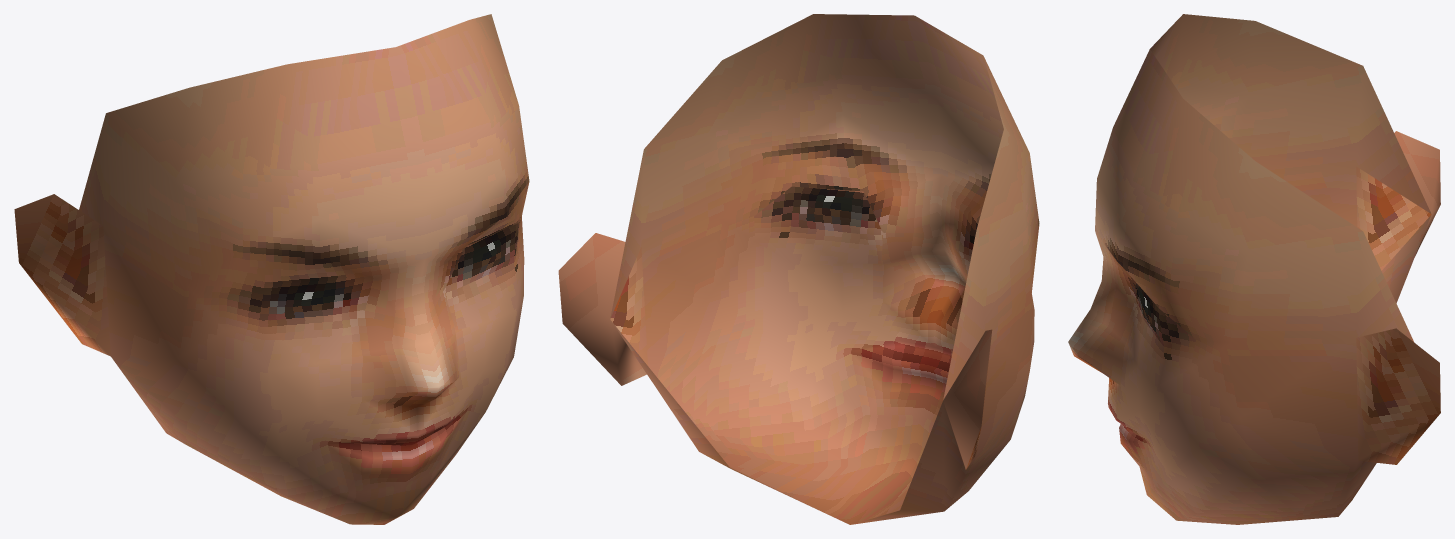
3 views of the same model, side by side, from view 1: azimuth 30°, elevation 25°; view 2: azimuth 150°, elevation 25°; view 3: azimuth 270°, elevation 25° (orthographic). The views are drawn at different scales.
Parts seen in each view (by area): view 1: mesh00; view 2: mesh00; view 3: mesh00.
Part boxes in pixels (x1,y1,x2,y2): mesh00: (14, 14, 529, 524); mesh00: (558, 14, 1039, 524); mesh00: (1068, 14, 1440, 524).
Size of the model in its own units: 19.4 by 20.01 by 14.34.
Materials: 1 (1 with a texture image).
